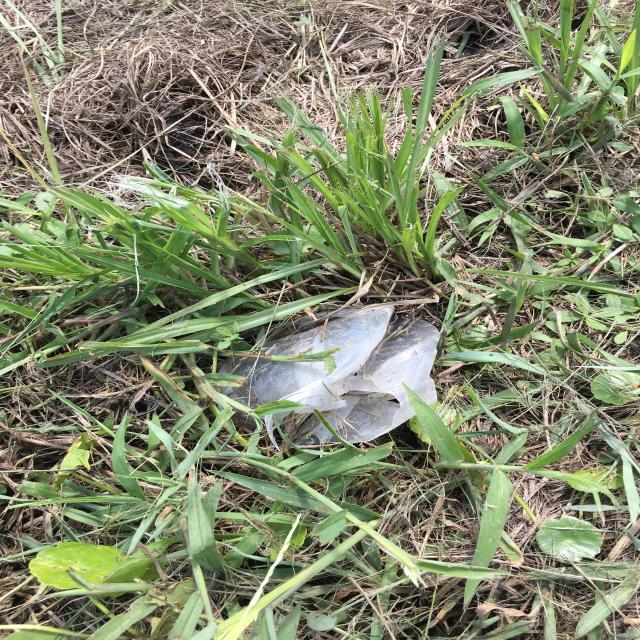litter: (405, 148, 600, 316)
